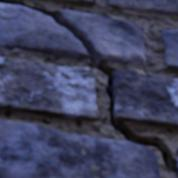brick: (0, 120, 160, 177), (0, 58, 98, 121), (112, 71, 177, 128), (107, 0, 177, 17), (161, 31, 177, 70), (55, 0, 93, 6), (176, 149, 177, 171)
broken_brick: (0, 4, 89, 59), (56, 10, 145, 63)
crack: (0, 0, 177, 176), (153, 3, 167, 10)
